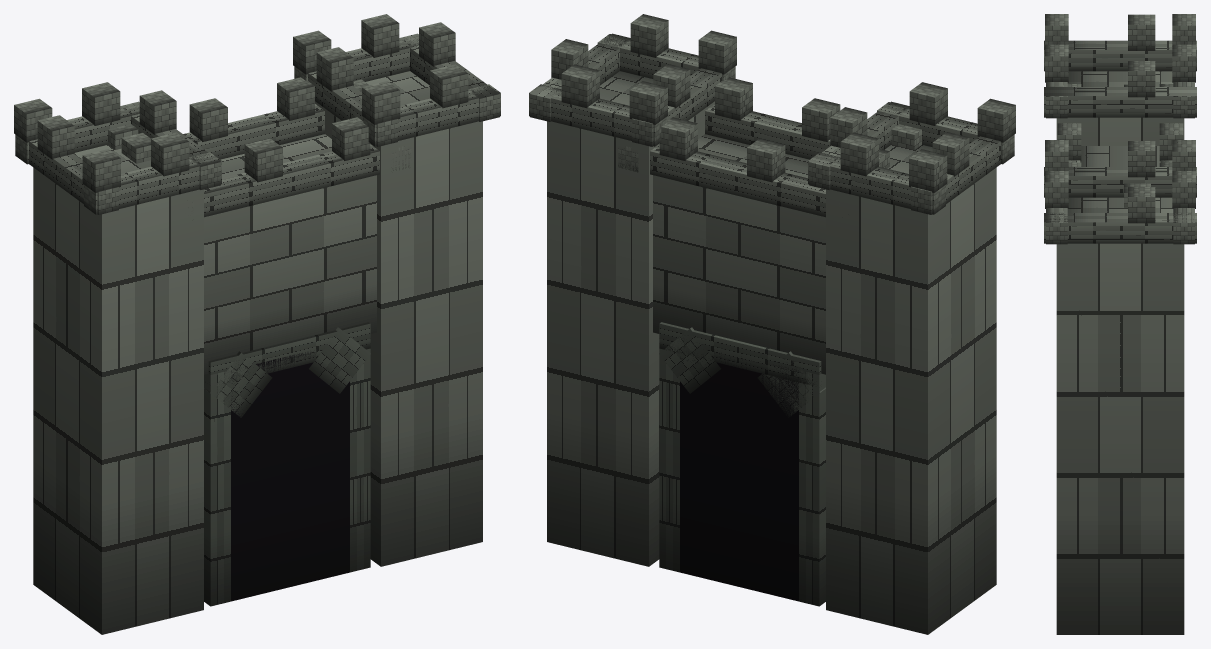
The model's file is portcullis.glb.
3 views of the same model, side by side, from view 1: azimuth 30°, elevation 25°; view 2: azimuth 150°, elevation 25°; view 3: azimuth 270°, elevation 25° (orthographic). The views are drawn at different scales.
Parts seen in each view (by area): view 1: portcullis; view 2: portcullis; view 3: portcullis.
Boxes of the visible parts, x1,y1,x2,y2 form: portcullis: [14, 14, 500, 634]; portcullis: [529, 14, 1015, 634]; portcullis: [1044, 14, 1196, 634].
Bounding box in the file's own units: 2.38 × 2.68 × 0.84.
Materials: 1 (1 with a texture image).
